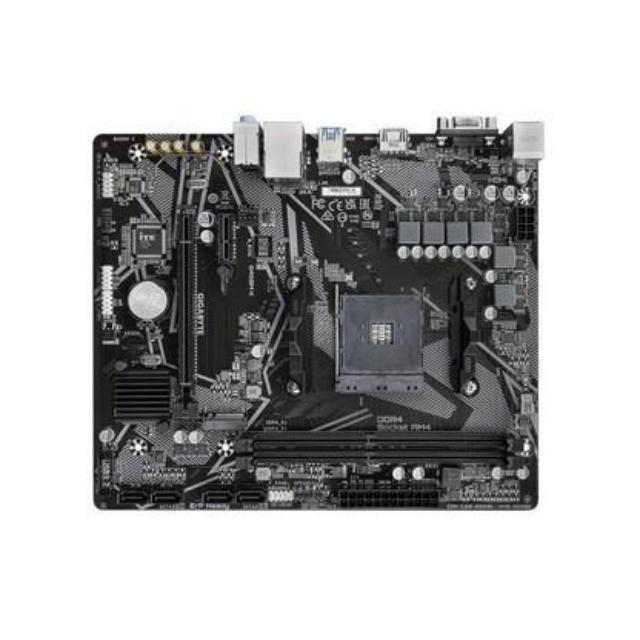Mainboard: (87, 124, 542, 518)
